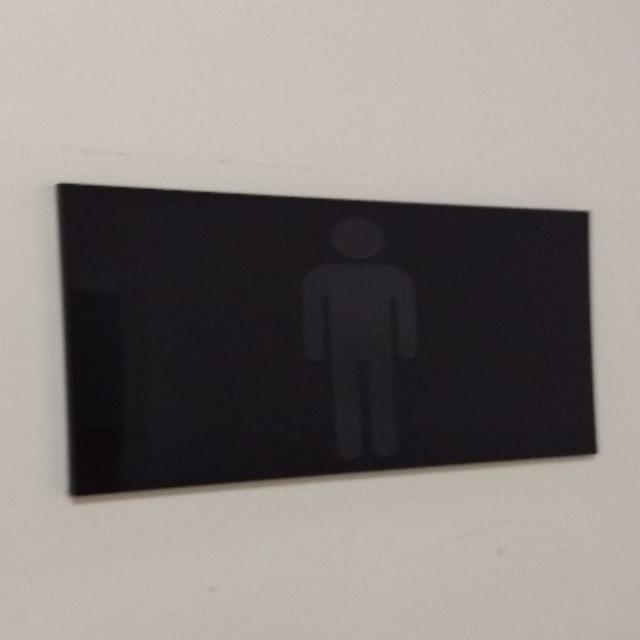wc nam: (59, 184, 596, 494)
